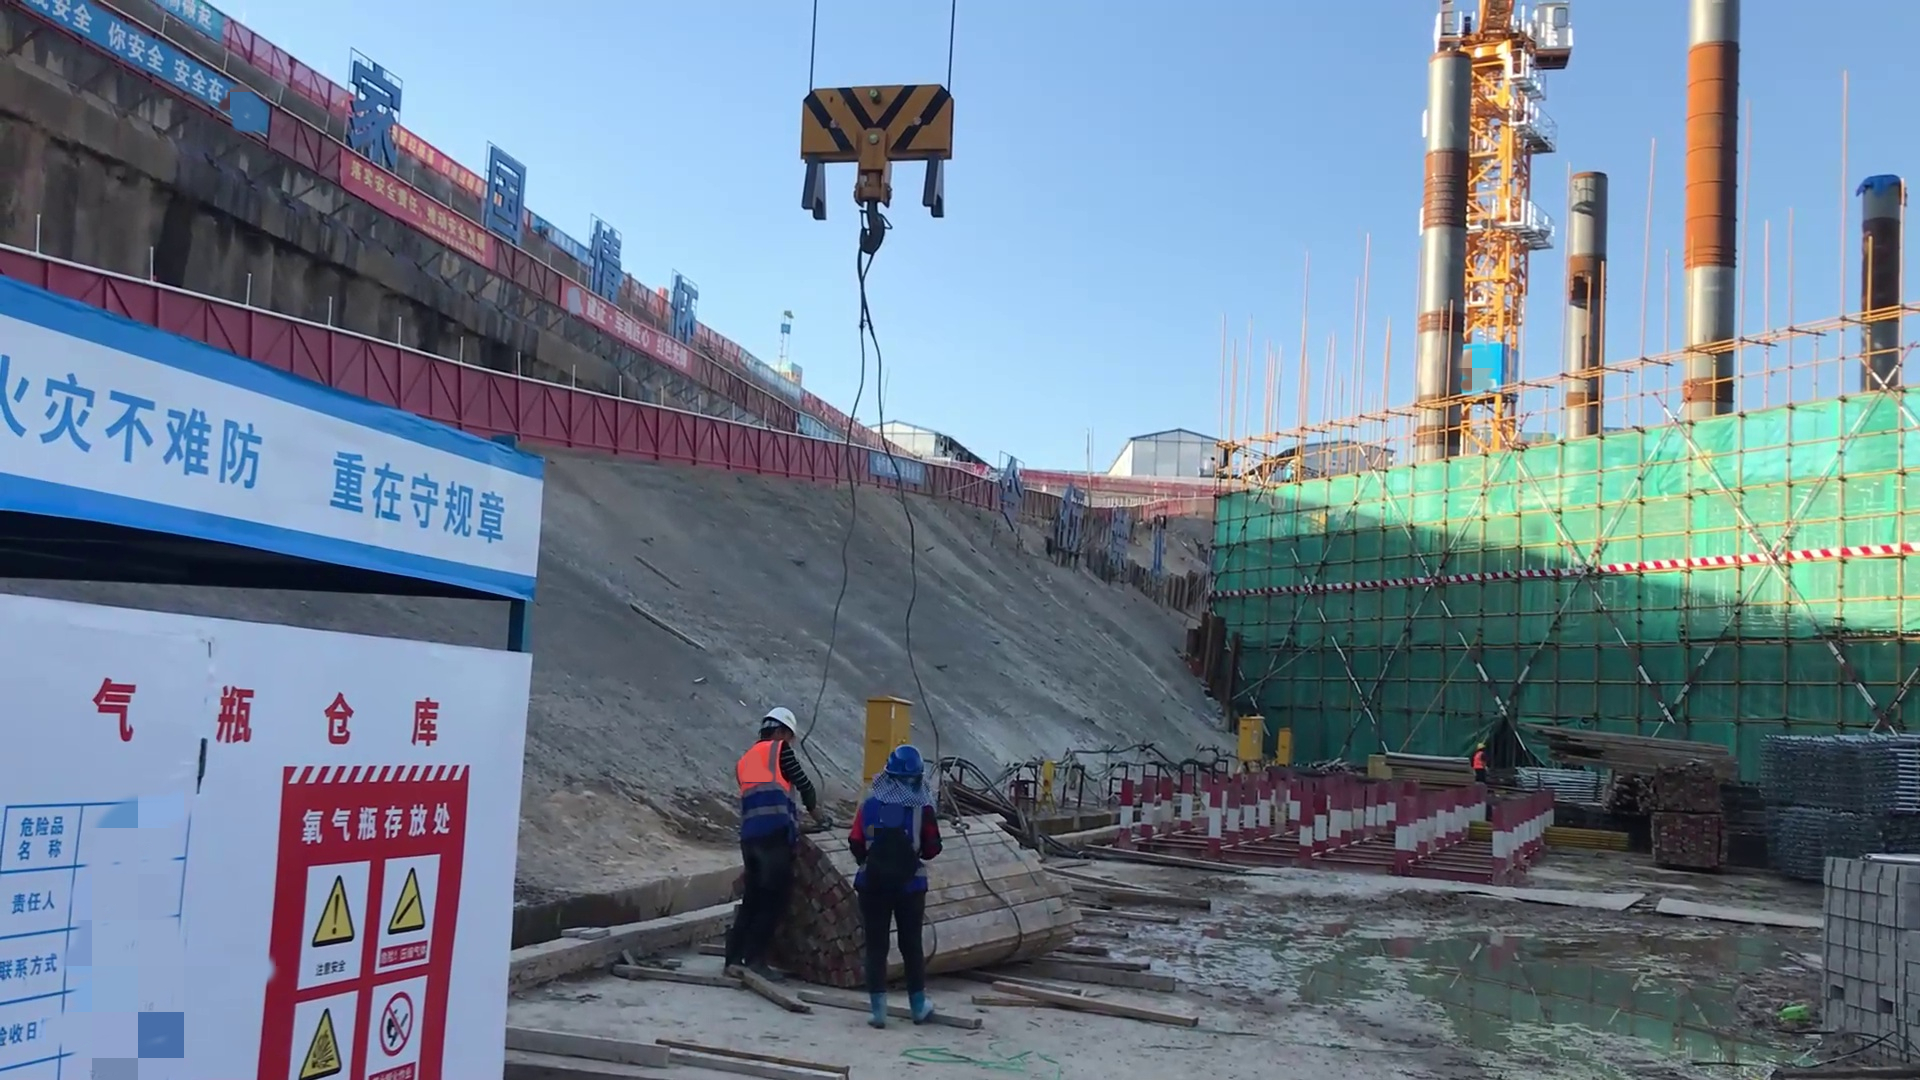brick: (1788, 846, 1920, 1037)
ebox: (862, 685, 922, 767), (1229, 708, 1268, 770), (1272, 720, 1296, 774)
fence: (536, 387, 703, 463), (704, 413, 870, 482)
helmet: (876, 746, 926, 784), (755, 699, 800, 738), (1475, 742, 1486, 754)
person: (723, 696, 817, 991), (849, 746, 945, 1019), (1470, 742, 1493, 782)
scaffold: (1769, 738, 1920, 844)
slogan: (1, 367, 518, 571), (264, 768, 448, 1080), (318, 134, 518, 293), (28, 1, 255, 138), (788, 83, 960, 222)
vest: (865, 777, 918, 849), (741, 737, 793, 801), (1474, 754, 1485, 777)
wood: (925, 820, 1082, 975), (1537, 715, 1730, 797)
